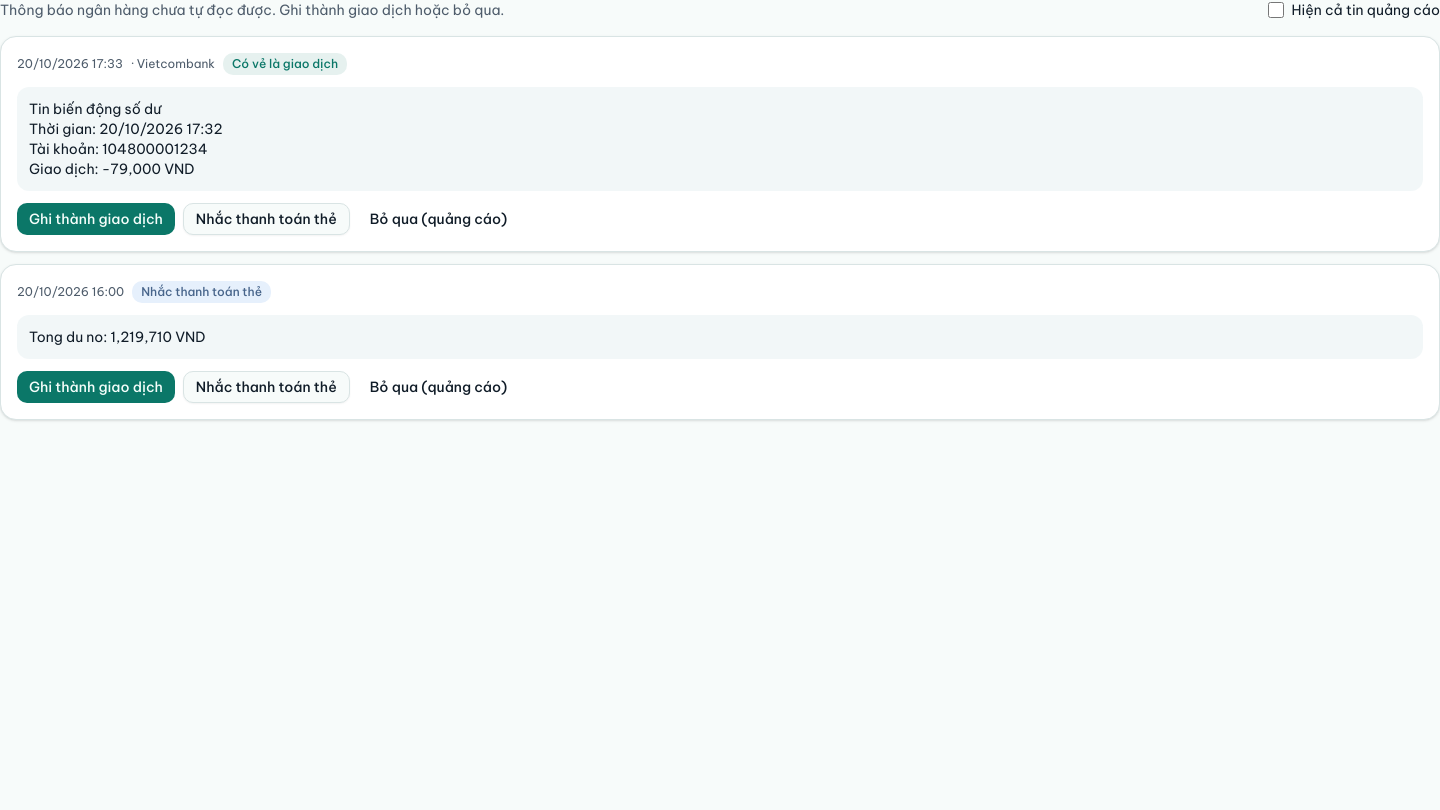
Test: UnparsedInbox › RPC lỗi -> giữ dialog và hiện thông điệp
Click the button "Ghi thành giao dịch" below "20/10/2026 17:33".
click(96, 219)  # box [17,203,175,235]
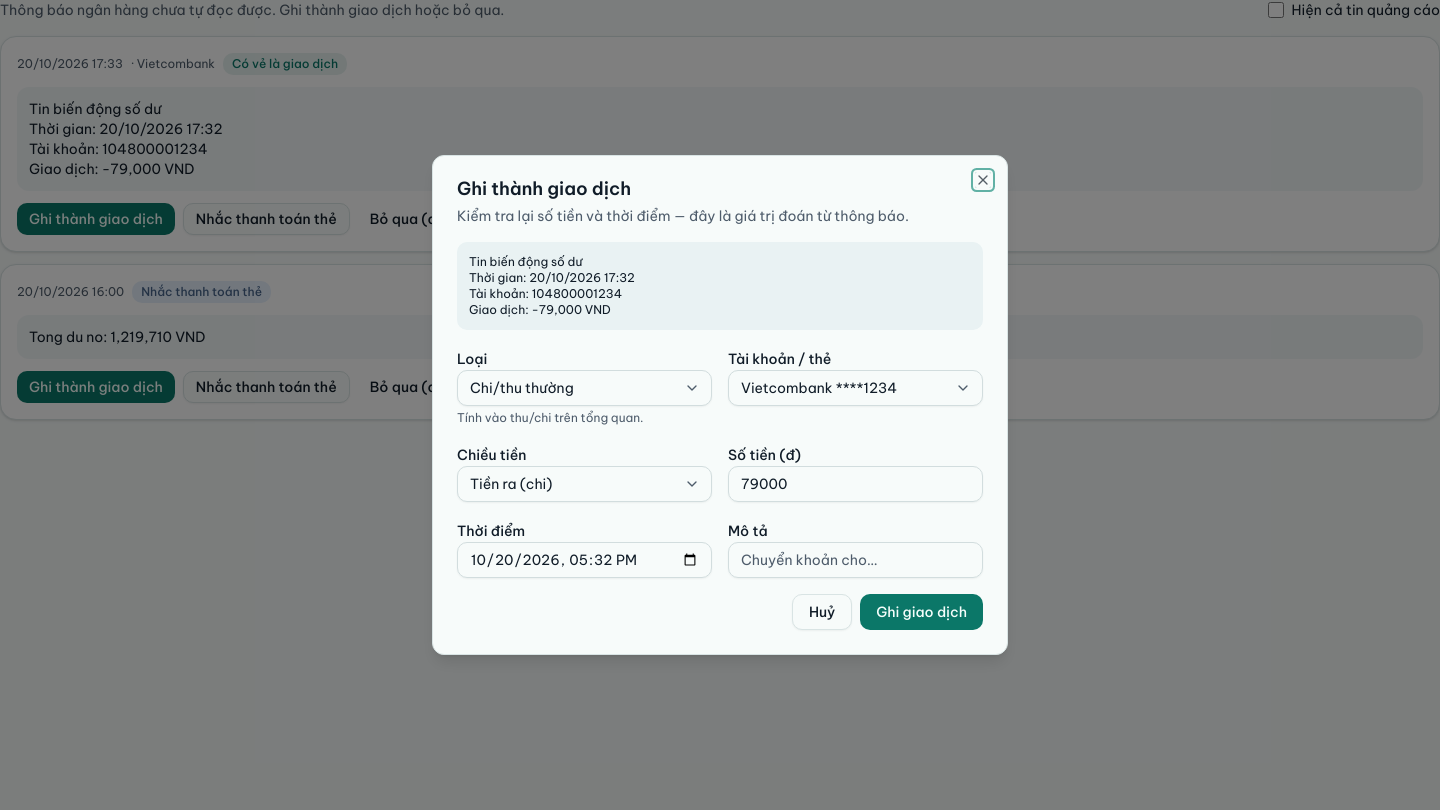
Click the button "Ghi giao dịch".
click(922, 612)  # box [860,594,983,630]
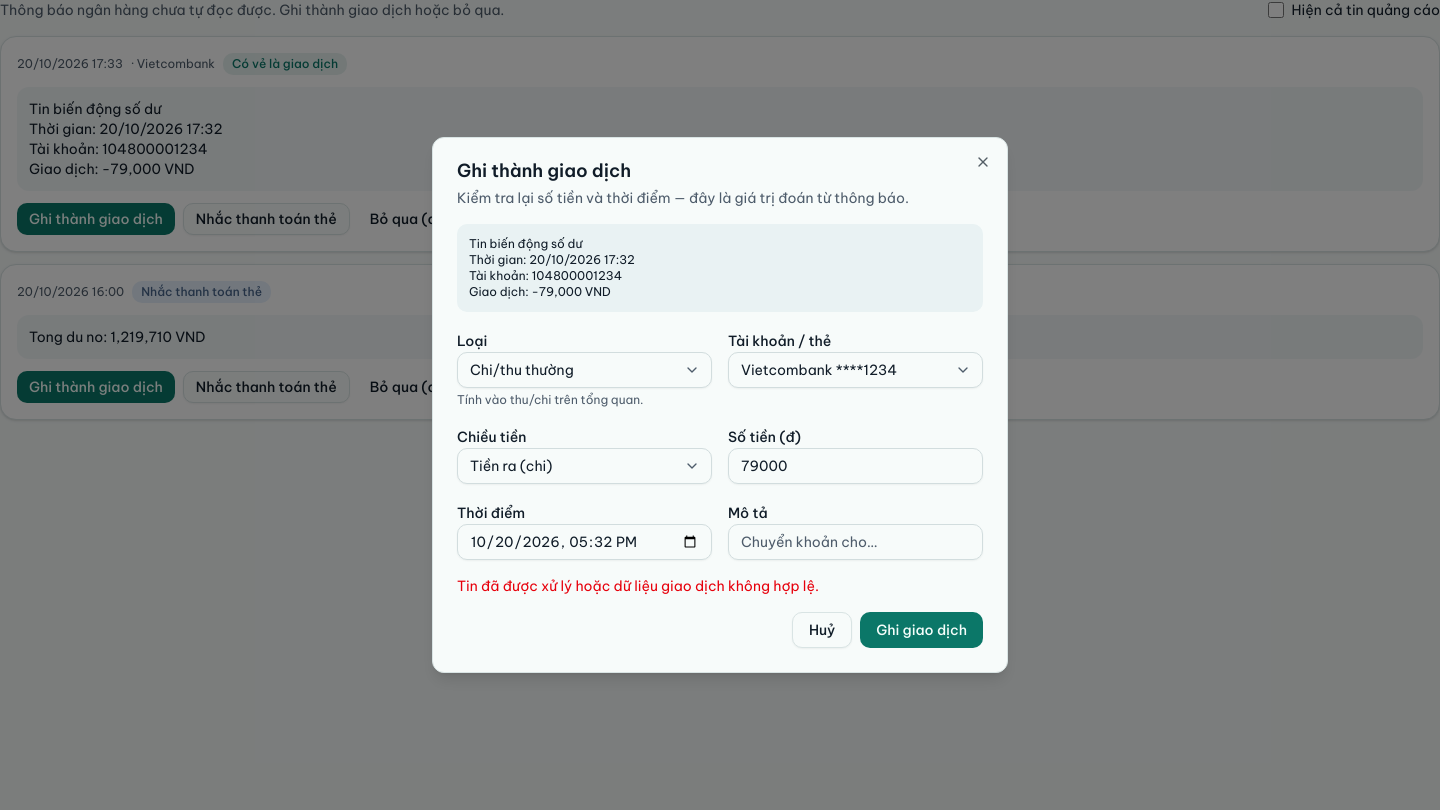
Check: the message shows "đã được xử lý", box [457,577,819,595]
